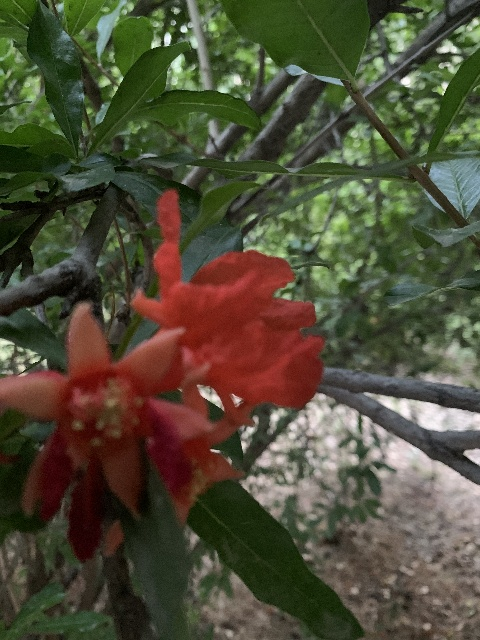flower: (0, 303, 215, 562), (128, 189, 326, 429), (103, 362, 259, 556)
